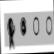correct: (20, 17, 26, 36)
not correct: (6, 17, 15, 52)
